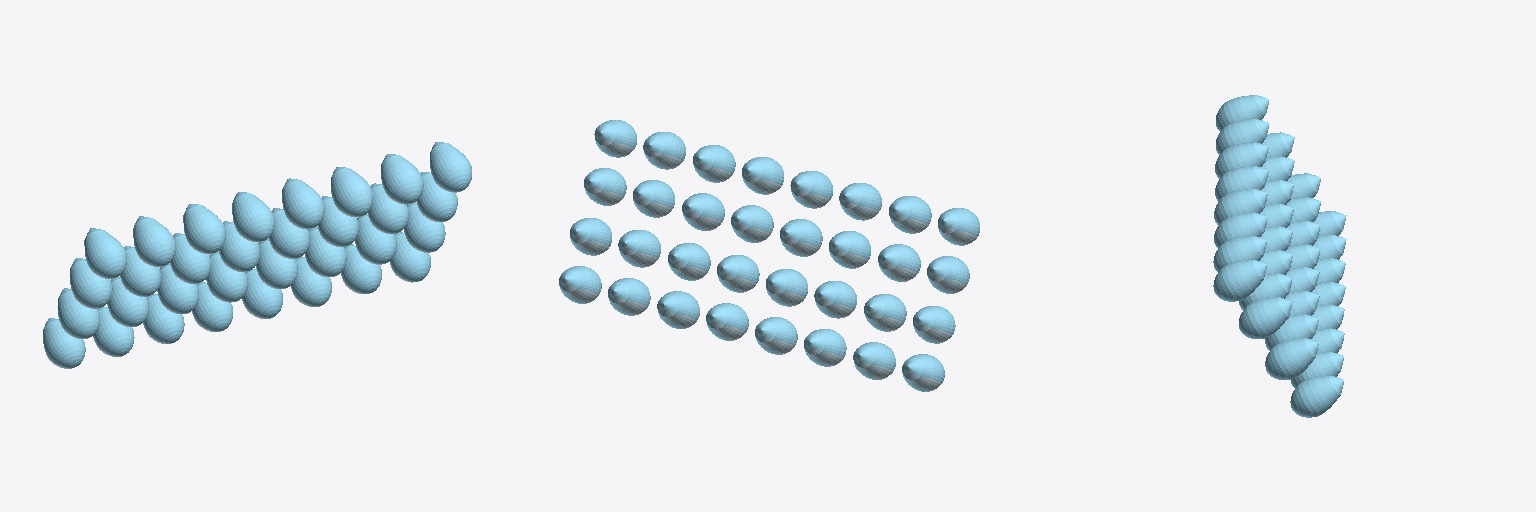
The picture shows the model from 3 angles: view 1: azimuth 30°, elevation 25°; view 2: azimuth 150°, elevation 25°; view 3: azimuth 270°, elevation 25°; orthographic projection.
Visible parts, largest first — view 1: Gota_Esfera; view 2: Gota_Esfera; view 3: Gota_Esfera.
Part boxes in pixels (x1,y1,x2,y2): Gota_Esfera: (43, 142, 471, 368); Gota_Esfera: (559, 120, 979, 391); Gota_Esfera: (1213, 95, 1346, 417).
Bounding box in the file's own units: 0.1938 × 0.0773 × 0.0585.
1 materials, 1 textured.